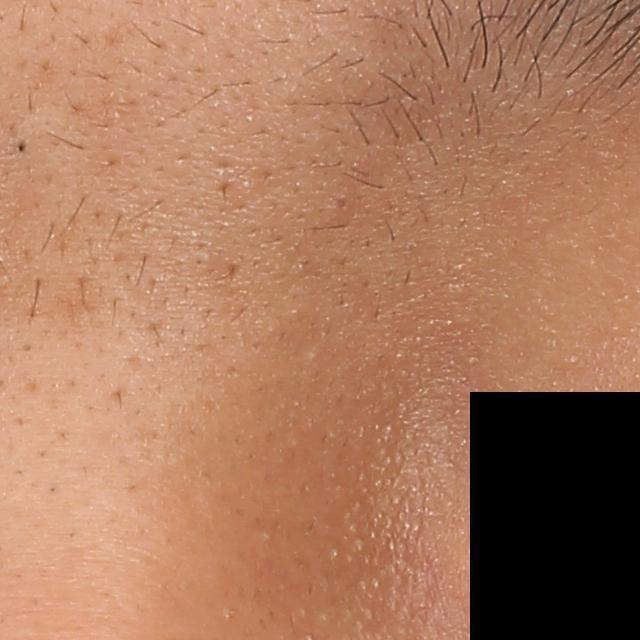comedo: (333, 195, 350, 212)
